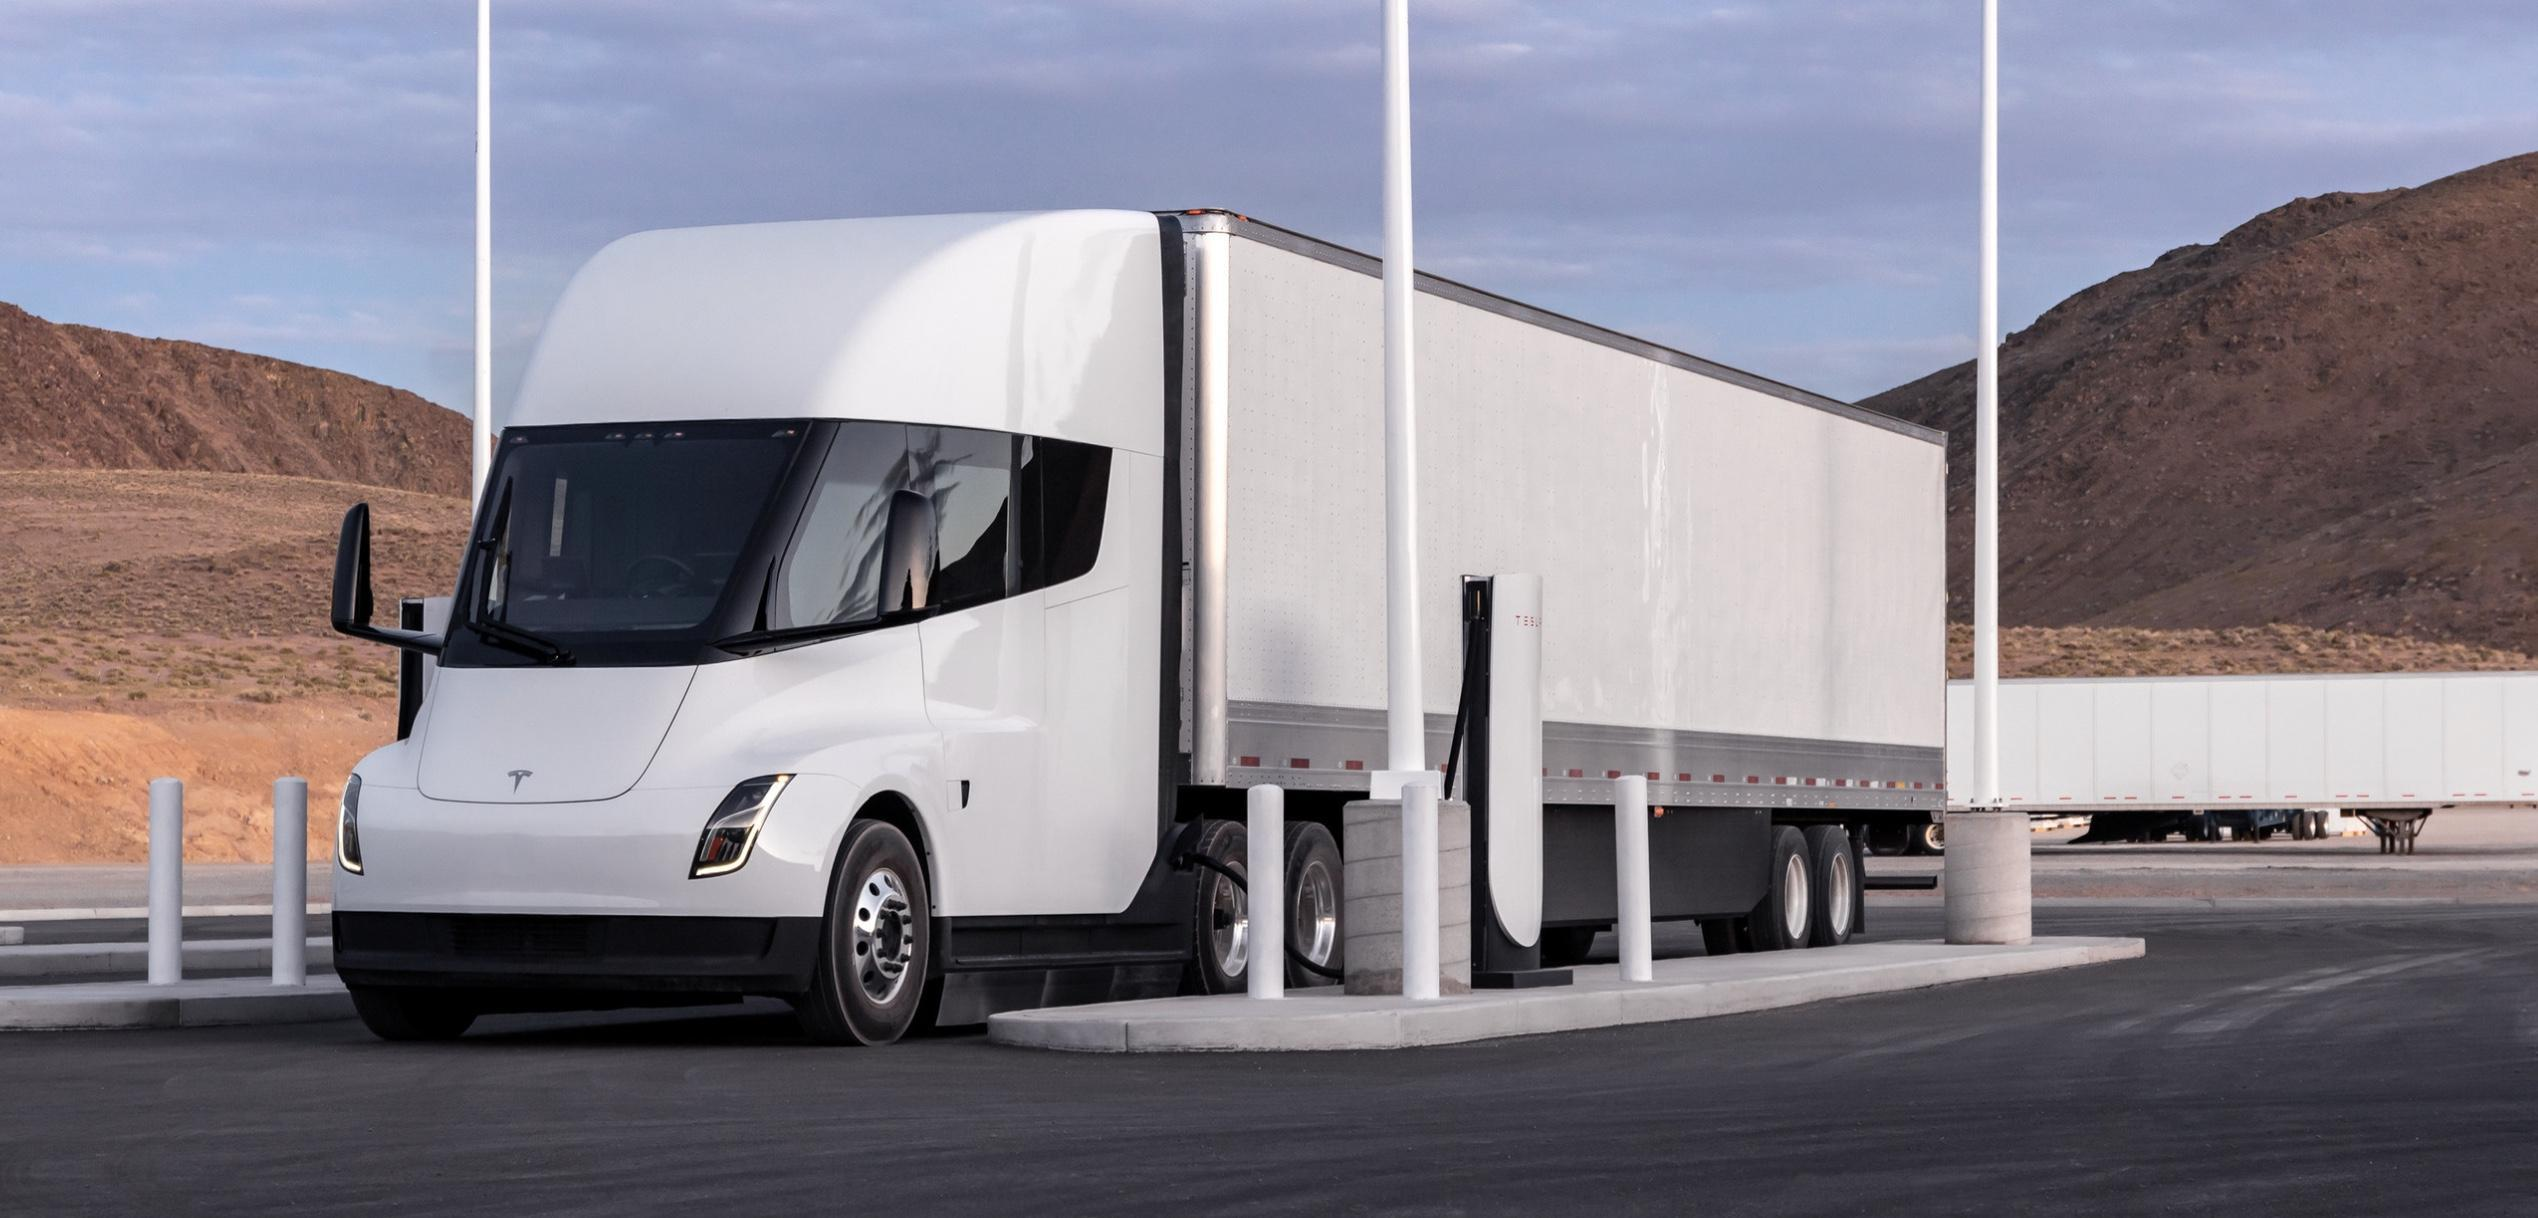truck: (330, 204, 1942, 1051)
